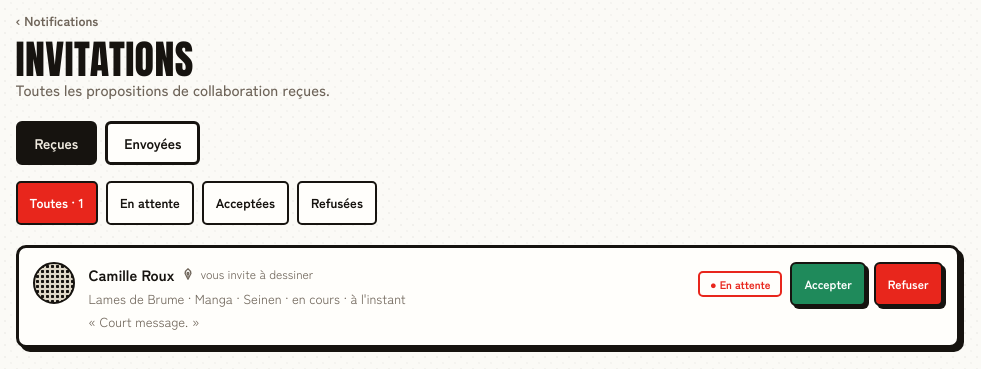
Test: InvitationsClient › switches to the Envoyées tab and lists sent invitations by recipient, no respond buttons
Check: the text "Camille Roux" is shown, box [88,264,174,285]
Click the button "Envoyées". click: (153, 143)
box: [105,121,200,165]
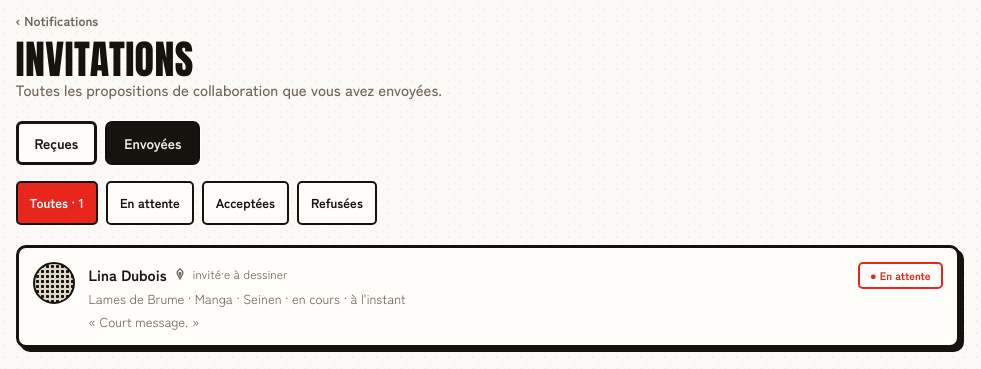
Check: the text "● En attente" is shown, box [858,262,942,288]
Check: the button "Accepter" is gone
Check: the button "Refuser" is gone
